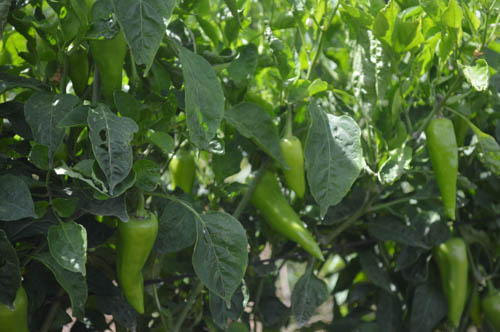ChiliPepper: (249, 176, 323, 255), (111, 215, 156, 312), (426, 119, 455, 218), (436, 237, 467, 325), (90, 31, 127, 93), (284, 139, 307, 192), (162, 151, 193, 188)
